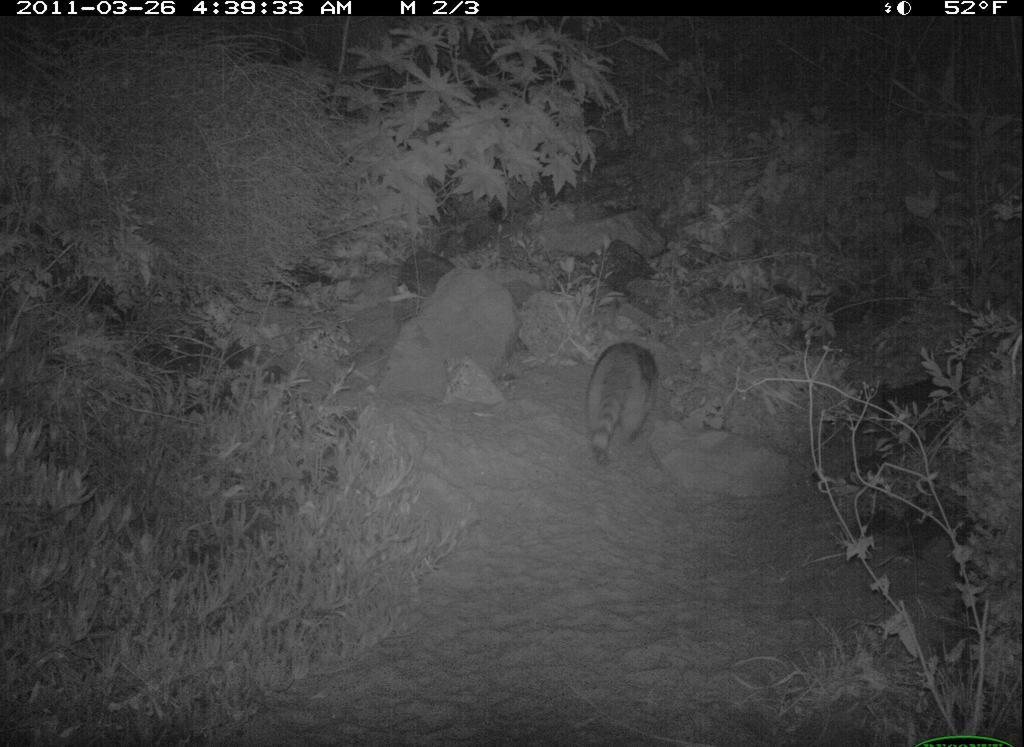raccoon: (574, 341, 666, 472)
